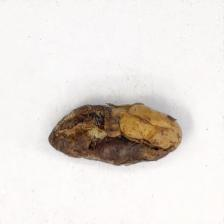NG: (46, 103, 182, 167)
